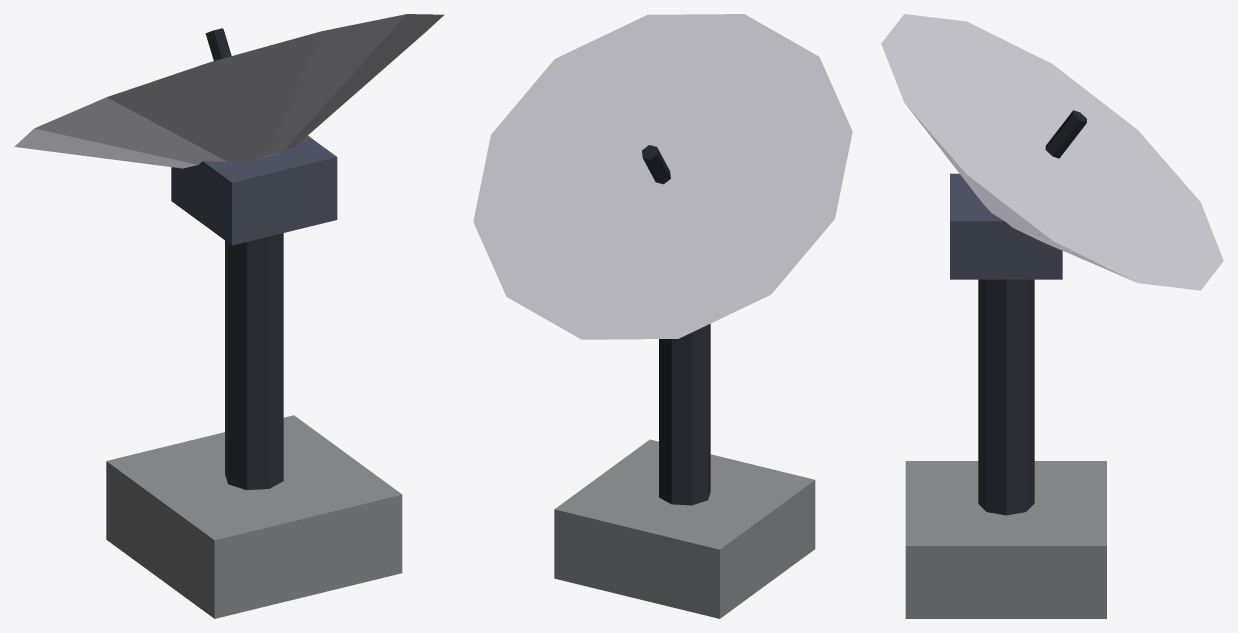
Rendered from radar_dish.glb.
3 renders of one model, left to right at view 1: azimuth 30°, elevation 25°; view 2: azimuth 150°, elevation 25°; view 3: azimuth 270°, elevation 25°, orthographic. The views are drawn at different scales.
Parts seen in each view (by area): view 1: model; view 2: model; view 3: model.
Boxes of the visible parts, <box> form: model: <box>14,14,444,618</box>; model: <box>473,14,852,618</box>; model: <box>881,14,1223,618</box>.
Size of the model in its own units: 5.2 by 7.31 by 4.26.
